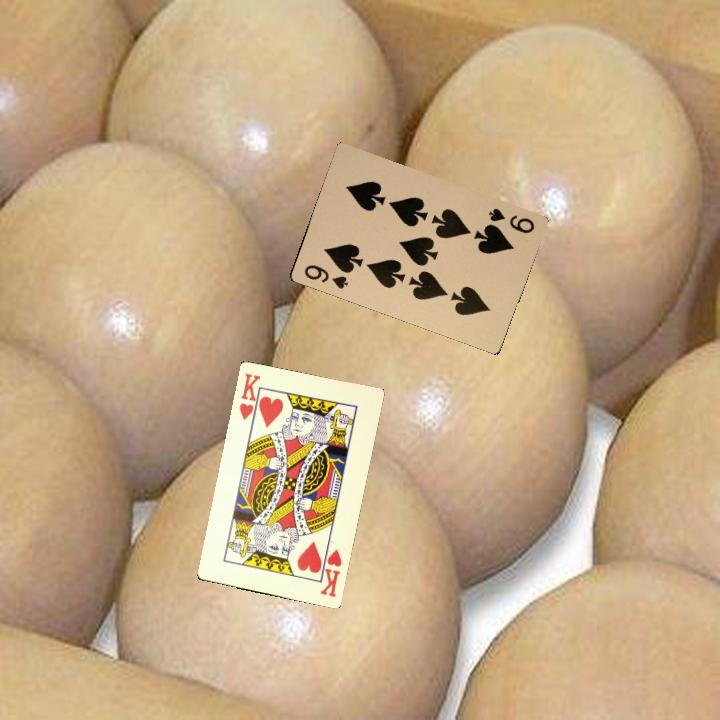9s: (484, 204, 537, 236), (300, 261, 351, 291)
Kh: (235, 369, 265, 425), (315, 543, 344, 599)
